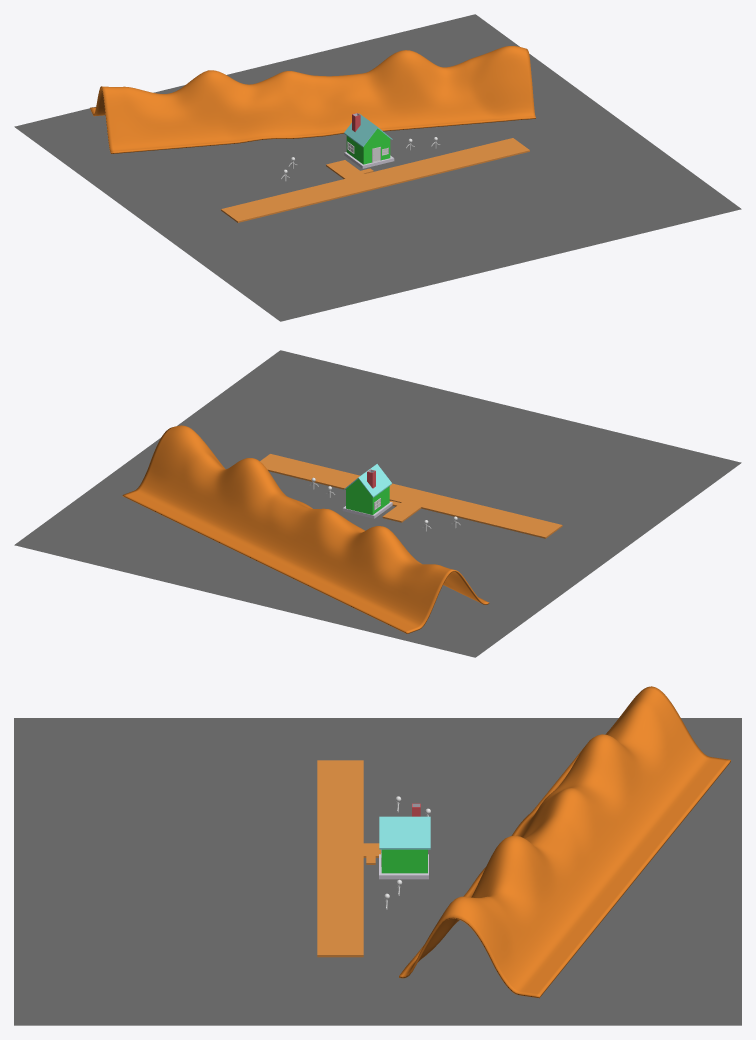
The model's file is 3d landscape_env.fbx.
3 views of the same model, one above another, from view 1: azimuth 30°, elevation 25°; view 2: azimuth 150°, elevation 25°; view 3: azimuth 270°, elevation 25° (orthographic). The views are drawn at different scales.
Parts seen in each view (by area): view 1: Circle.001, Plane, Plane.001, Cube, Cube.003; view 2: Circle.001, Plane, Plane.001, Cube, Cube.003; view 3: Circle.001, Plane, Plane.001, Cube.003, Cube.
Boxes of the visible parts, x1,y1,x2,y2 form: Circle.001: (14, 14, 741, 321); Plane: (90, 46, 535, 153); Plane.001: (221, 138, 529, 222); Cube: (346, 128, 390, 164); Cube.003: (344, 113, 392, 147); Circle.001: (14, 350, 741, 657); Plane: (122, 425, 489, 633); Plane.001: (260, 454, 562, 538); Cube: (346, 479, 389, 514); Cube.003: (343, 464, 391, 497); Circle.001: (14, 718, 741, 1025); Plane: (399, 686, 730, 998); Plane.001: (317, 760, 380, 957); Cube.003: (379, 816, 430, 849); Cube: (381, 849, 427, 873).
Bounding box in the file's own units: 3140 × 405 × 3140.
